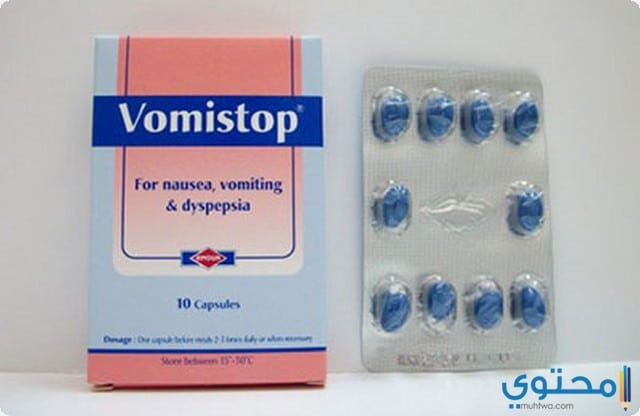Medicine: (84, 28, 333, 401)
